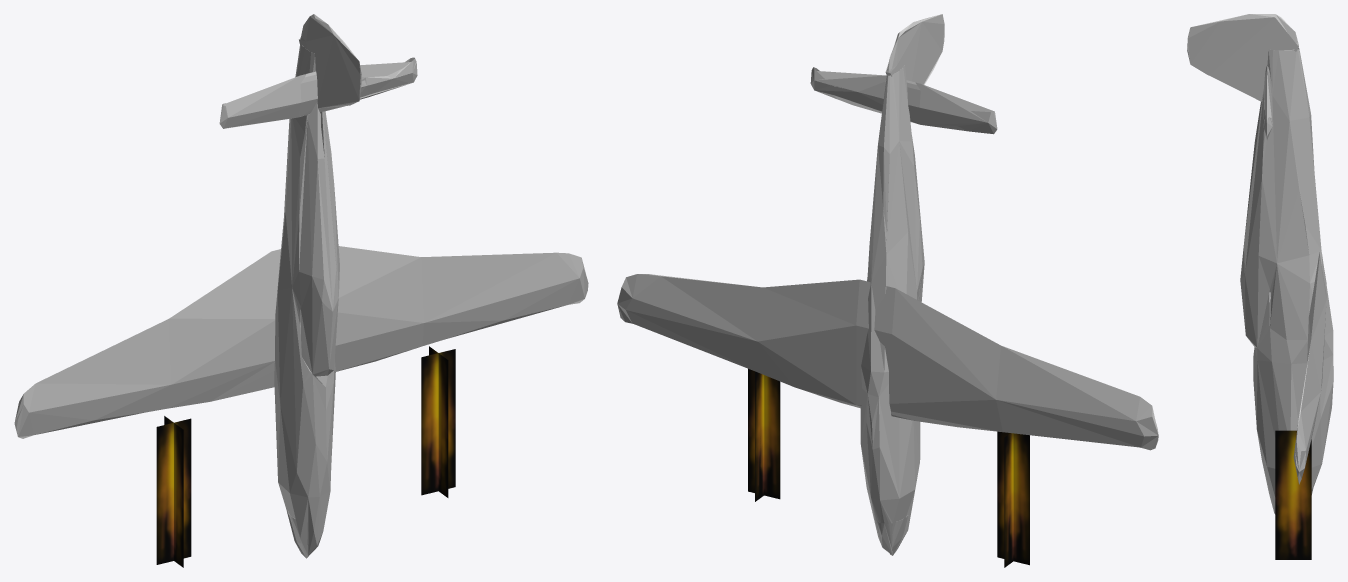
The model's file is P51Boned_wtf.obj.
The picture shows the model from 3 angles, left to right: view 1: azimuth 30°, elevation 25°; view 2: azimuth 150°, elevation 25°; view 3: azimuth 270°, elevation 25°; orthographic projection. The views are drawn at different scales.
Visible parts, largest first — view 1: group1, group2; view 2: group1, group2; view 3: group1, group2.
Boxes of the visible parts, bbox=[...] form: group1: bbox=[14, 14, 588, 558]; group2: bbox=[156, 346, 455, 567]; group1: bbox=[617, 14, 1158, 555]; group2: bbox=[748, 368, 1029, 567]; group1: bbox=[1187, 14, 1333, 514]; group2: bbox=[1275, 430, 1311, 559].
Size of the model in its own units: 660 by 604 by 155.
